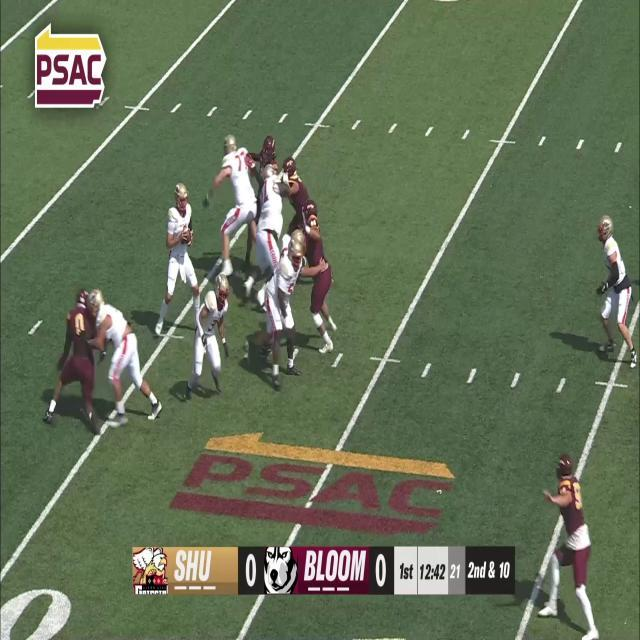football: (182, 224, 192, 247)
